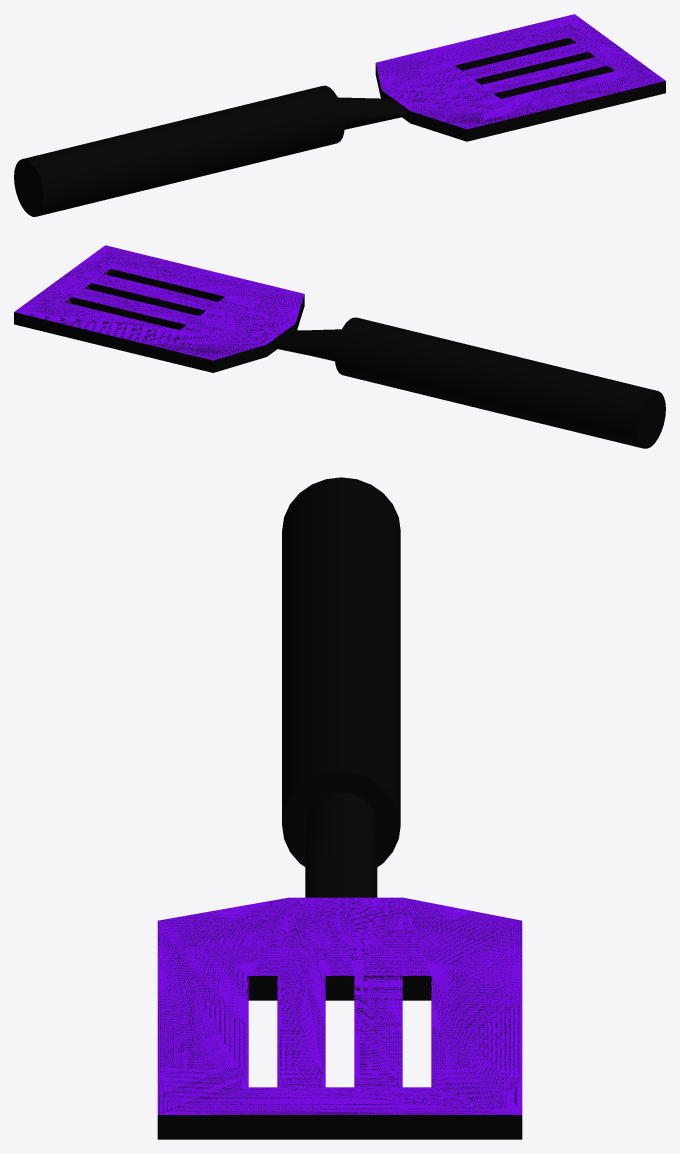
The model's file is turner_05_origin_gt_6.dae.
3 views of the same model, one above another, from view 1: azimuth 30°, elevation 25°; view 2: azimuth 150°, elevation 25°; view 3: azimuth 270°, elevation 25° (orthographic). The views are drawn at different scales.
Visible parts, largest first — view 1: Untitled (×6); view 2: Untitled (×6); view 3: Untitled (×3).
Boxes of the visible parts, x1=… form: Untitled (×6): x1=14, y1=14, x2=665, y2=216; Untitled (×6): x1=14, y1=245, x2=665, y2=448; Untitled (×3): x1=157, y1=477, x2=522, y2=1139.
Size of the model in its own units: 21.91 by 5.86 by 1.91.
